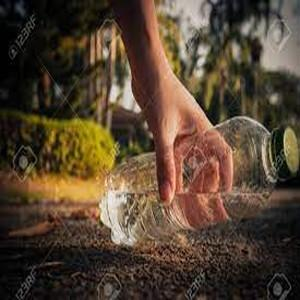Plastic: (97, 115, 298, 249)
